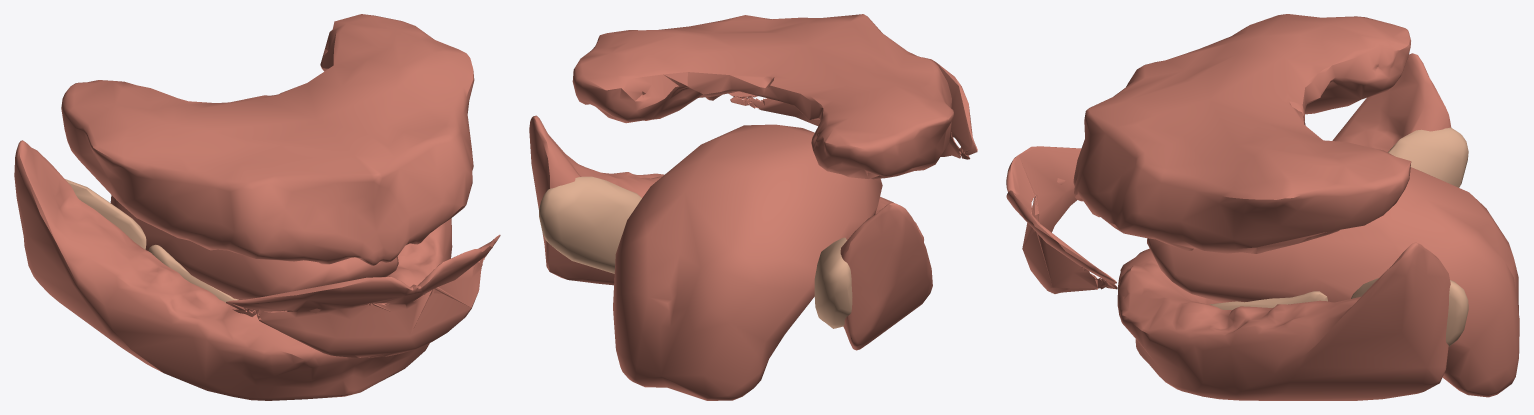
File: digestive.head.glb
The picture shows the model from 3 angles, left to right: view 1: azimuth 30°, elevation 25°; view 2: azimuth 150°, elevation 25°; view 3: azimuth 270°, elevation 25°; orthographic projection. The views are drawn at different scales.
Parts seen in each view (by area): view 1: maxillary_gingiva, mandibular_gingiva, lip, tongue, right_submandibular_gland, right_sublingual_gland; view 2: tongue, maxillary_gingiva, mandibular_gingiva, left_submandibular_gland, lip, right_submandibular_gland; view 3: maxillary_gingiva, mandibular_gingiva, tongue, lip, right_submandibular_gland, left_submandibular_gland, left_sublingual_gland.
Part boxes in pixels (<box>): maxillary_gingiva: <box>61,14,474,265</box>; mandibular_gingiva: <box>14,140,452,400</box>; lip: <box>226,234,500,357</box>; tongue: <box>110,195,398,311</box>; right_submandibular_gland: <box>65,179,146,249</box>; right_sublingual_gland: <box>148,244,238,302</box>; tongue: <box>613,124,882,400</box>; maxillary_gingiva: <box>572,14,953,179</box>; mandibular_gingiva: <box>529,115,932,350</box>; left_submandibular_gland: <box>539,176,641,273</box>; lip: <box>728,57,977,159</box>; right_submandibular_gland: <box>814,237,852,328</box>; maxillary_gingiva: <box>1073,14,1411,253</box>; mandibular_gingiva: <box>1117,53,1451,400</box>; tongue: <box>1147,167,1519,397</box>; lip: <box>1006,146,1117,293</box>; right_submandibular_gland: <box>1388,127,1468,187</box>; left_submandibular_gland: <box>1351,278,1468,346</box>; left_sublingual_gland: <box>1209,291,1327,309</box>.
Bounding box in the file's own units: 0.0753 × 0.0488 × 0.0819.
